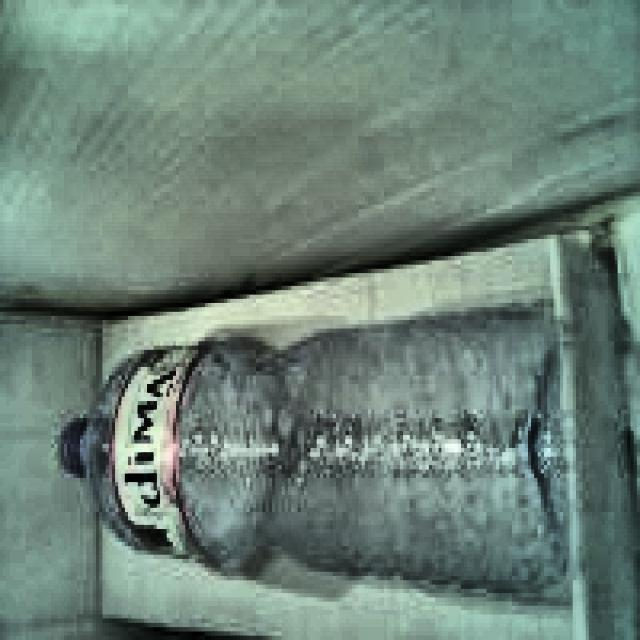plastic bottle: (61, 311, 570, 599)
